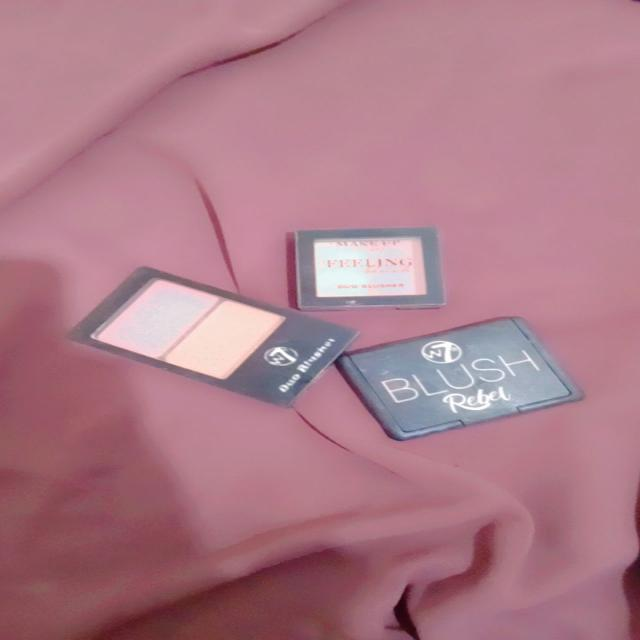blush: (87, 273, 289, 382), (283, 219, 455, 314)
